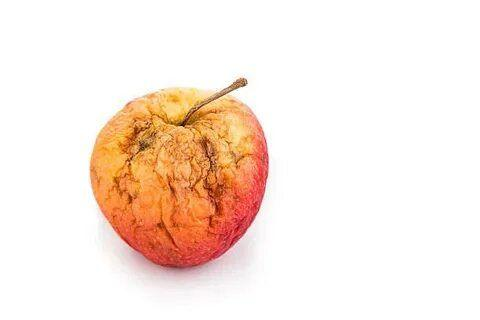Apple: (91, 90, 268, 268)
